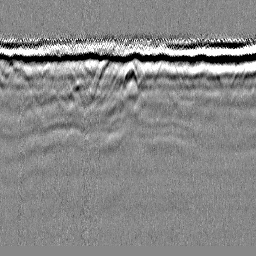cavity: (121, 61, 140, 91)
